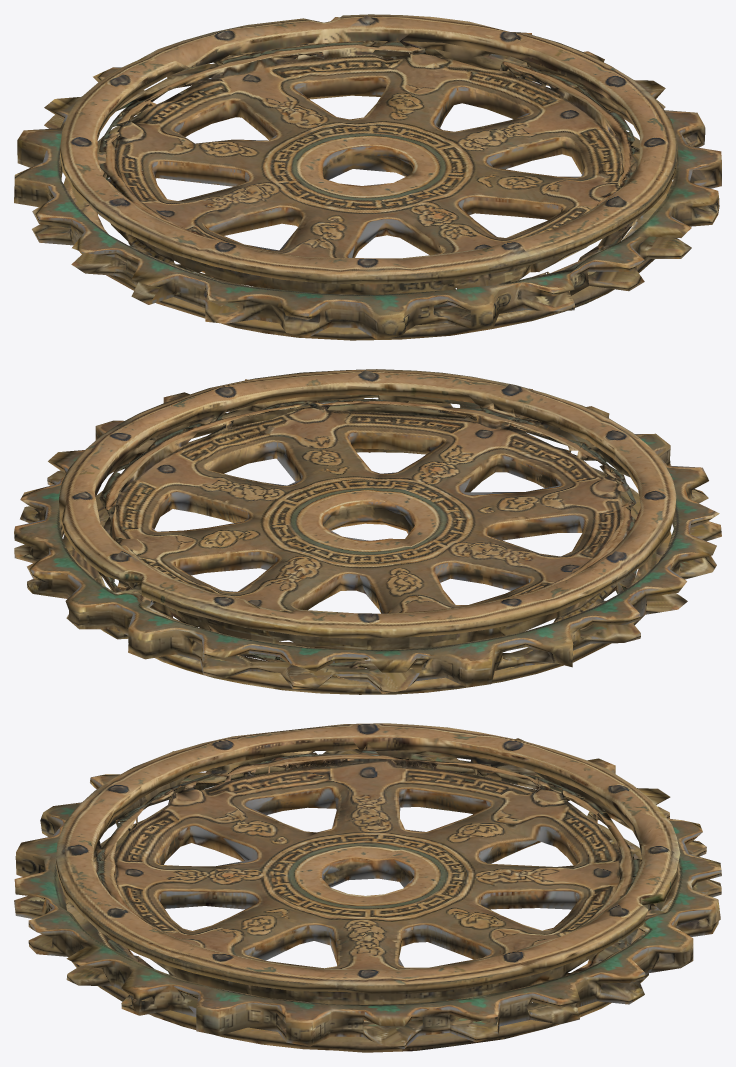
Rendered from PR_BronzeGear_07.fbx.
The picture shows the model from 3 angles, top to bottom: view 1: azimuth 30°, elevation 25°; view 2: azimuth 150°, elevation 25°; view 3: azimuth 270°, elevation 25°; orthographic projection.
Parts seen in each view (by area): view 1: texture_mapping; view 2: texture_mapping; view 3: texture_mapping.
Boxes of the visible parts, bbox=[...] form: texture_mapping: bbox=[14, 14, 721, 340]; texture_mapping: bbox=[14, 369, 721, 694]; texture_mapping: bbox=[14, 723, 721, 1052].
Size of the model in its own units: 1 by 1 by 0.1284.
1 material, 1 textured.
